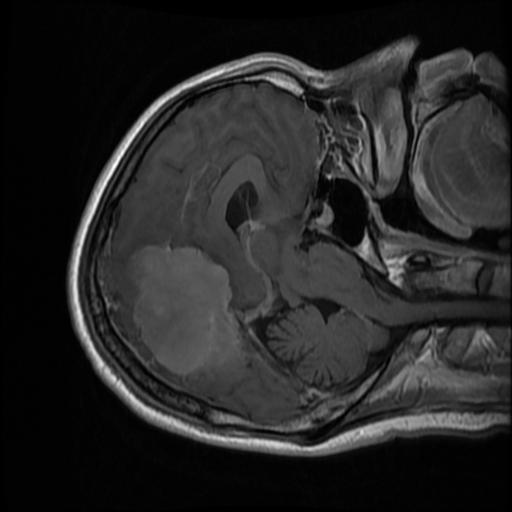meningioma: (124, 243, 247, 390)
